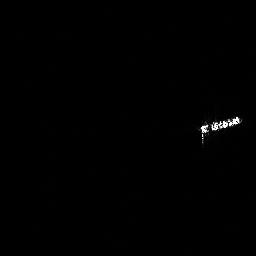ship: (195, 112, 246, 147)
